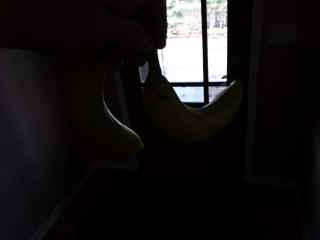banana: (138, 36, 247, 156), (63, 43, 147, 163)
